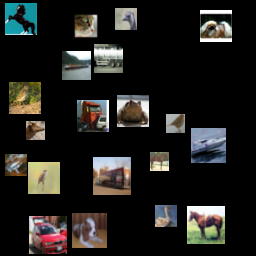airplane: (16, 121, 45, 150)
automobile: (171, 58, 187, 74)
bird: (117, 196, 155, 234), (73, 202, 102, 231), (116, 144, 142, 170), (111, 39, 137, 65), (205, 137, 224, 156)
cat: (193, 187, 231, 225)
deer: (163, 17, 198, 52), (51, 60, 86, 95), (91, 82, 123, 114), (82, 123, 111, 152), (66, 178, 85, 197)
frog: (213, 103, 242, 132), (0, 82, 29, 111)
ship: (5, 191, 43, 229), (166, 123, 201, 158)
